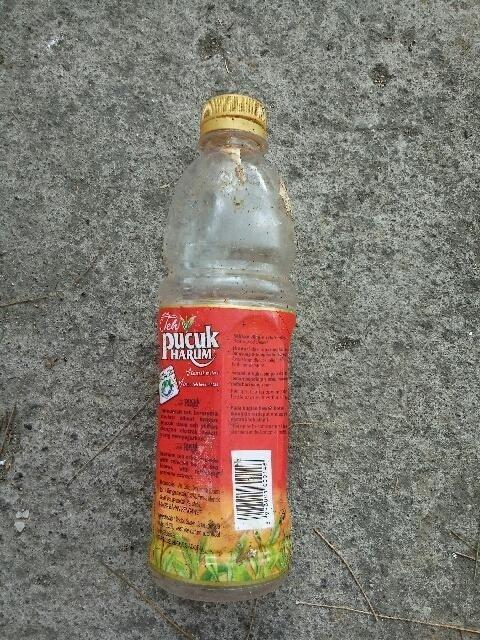bottle-plastic: (143, 88, 301, 608)
